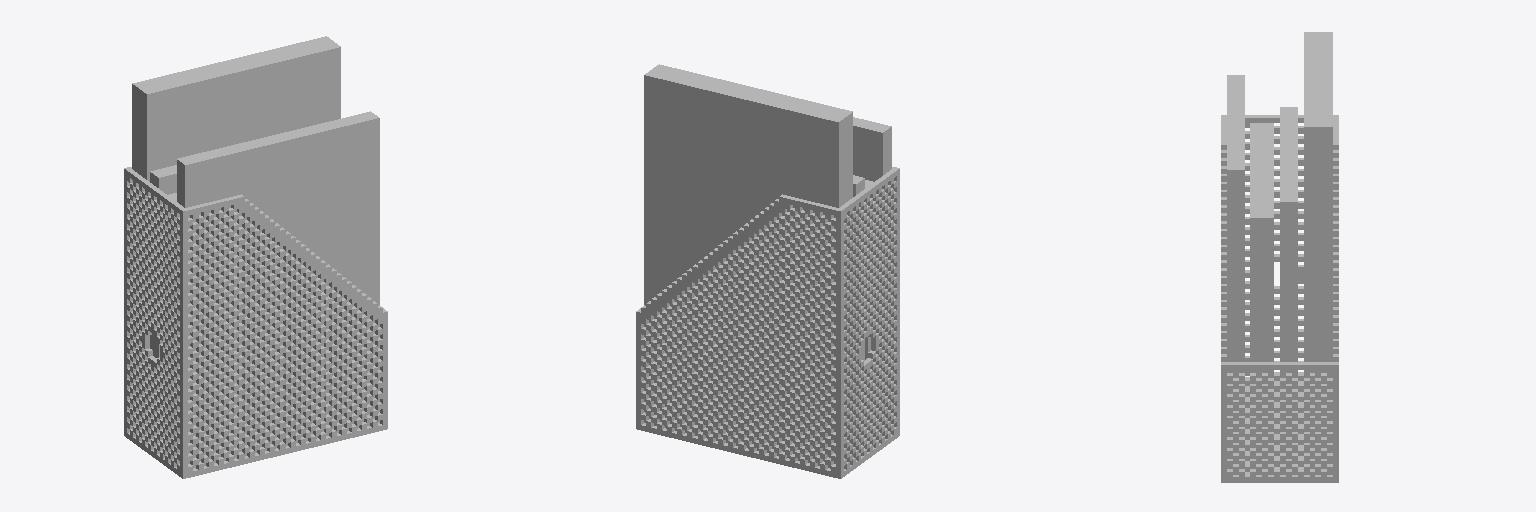
Rendered from Folder Collectible Centered-1.obj.
3 renders of one model, left to right at view 1: azimuth 30°, elevation 25°; view 2: azimuth 150°, elevation 25°; view 3: azimuth 270°, elevation 25°, orthographic.
Visible parts, largest first — view 1: Folder Collectible Centered-1; view 2: Folder Collectible Centered-1; view 3: Folder Collectible Centered-1.
Boxes of the visible parts, box(x1,y1,x2,y2) form: Folder Collectible Centered-1: box(124, 36, 387, 478); Folder Collectible Centered-1: box(636, 64, 899, 478); Folder Collectible Centered-1: box(1221, 32, 1338, 482).
Bounding box in the file's own units: 40 × 66 × 20.